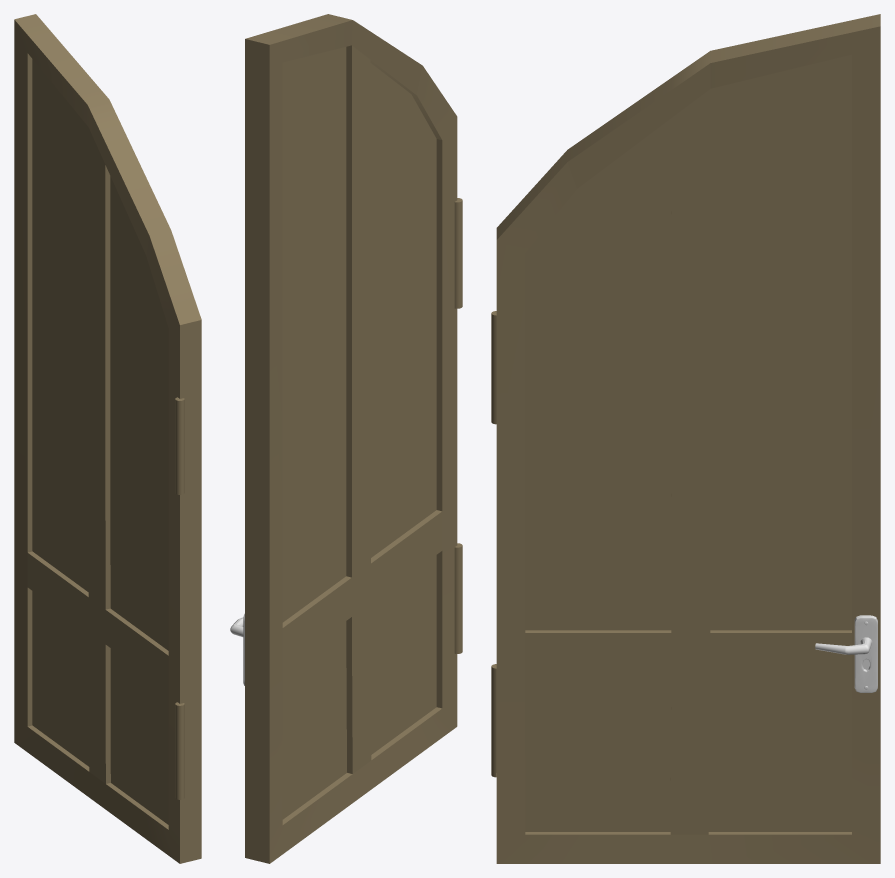
The model's file is Porte_G_Couloir.fbx.
3 renders of one model, left to right at view 1: azimuth 30°, elevation 25°; view 2: azimuth 150°, elevation 25°; view 3: azimuth 270°, elevation 25°, orthographic. The views are drawn at different scales.
Visible parts, largest first — view 1: Porte_D; view 2: Porte_D; view 3: Porte_D, Poignet_toielttes_3.
Boxes of the visible parts, x1,y1,x2,y2 form: Porte_D: [14, 14, 201, 863]; Porte_D: [245, 14, 462, 863]; Porte_D: [491, 14, 880, 863]; Poignet_toielttes_3: [815, 615, 877, 692].
Bounding box in the file's own units: 28.44 × 419 × 176.
